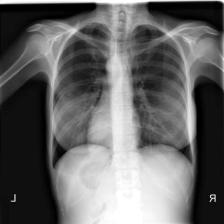normal: (49, 19, 197, 177)
